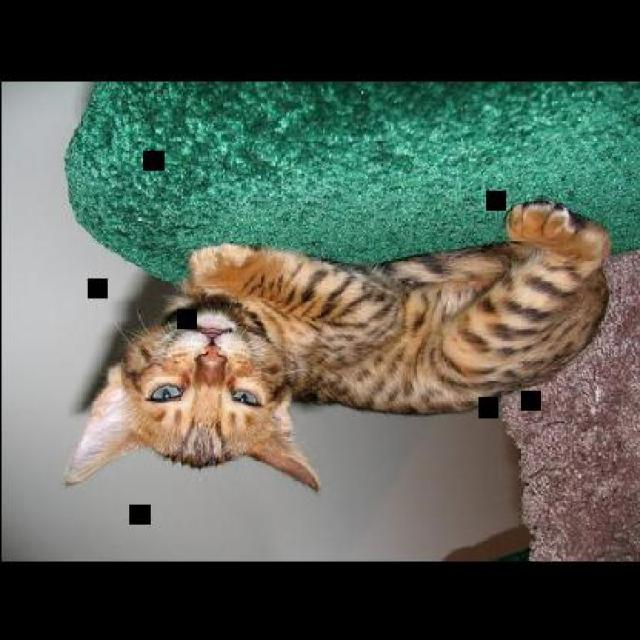unauthorized: (62, 195, 612, 492)
